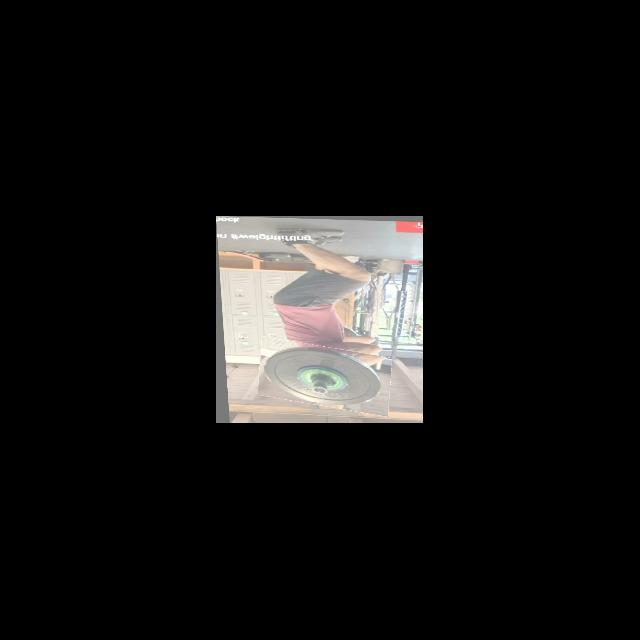barbell: (254, 340, 391, 412)
